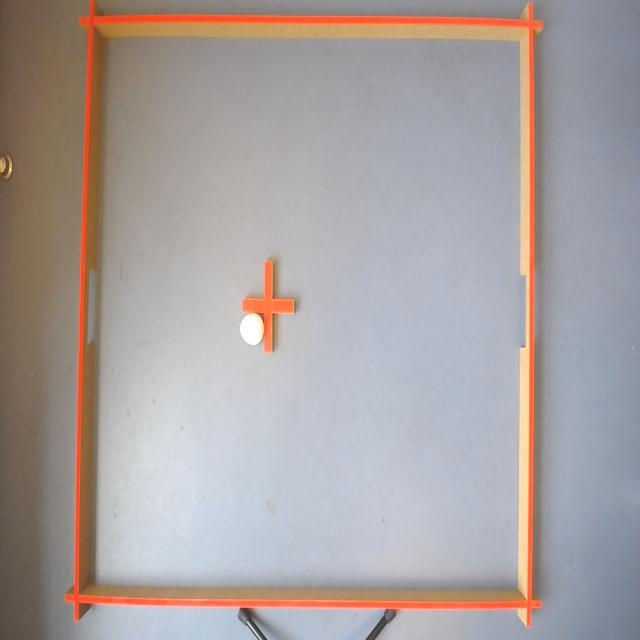cross: (242, 259, 295, 355)
egg: (239, 312, 265, 347)
